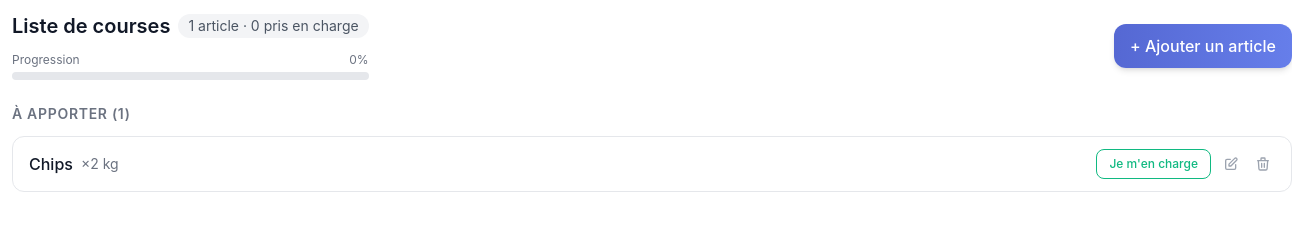
it: EventItemListTab › shows edit/delete actions for the organizer and deletes an item
Expected: the text "Chips" is shown, 29,152 -> 73,176
Click the button named "Supprimer l'article" at (1263, 164), box 1251,152 -> 1275,176
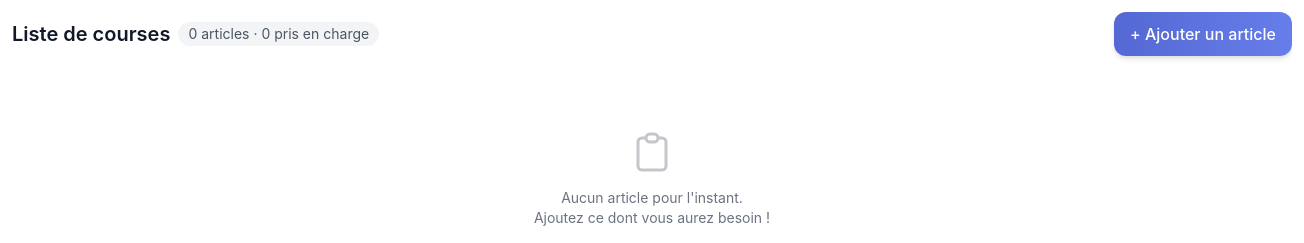
Result: the text "Chips" is gone
